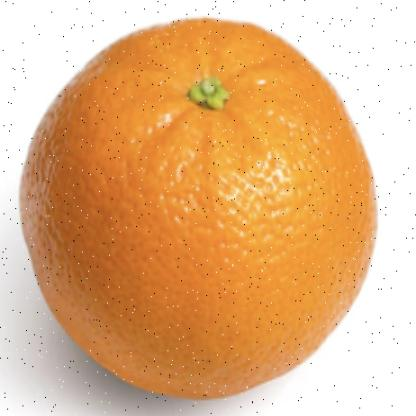fresh: (21, 21, 375, 401)
